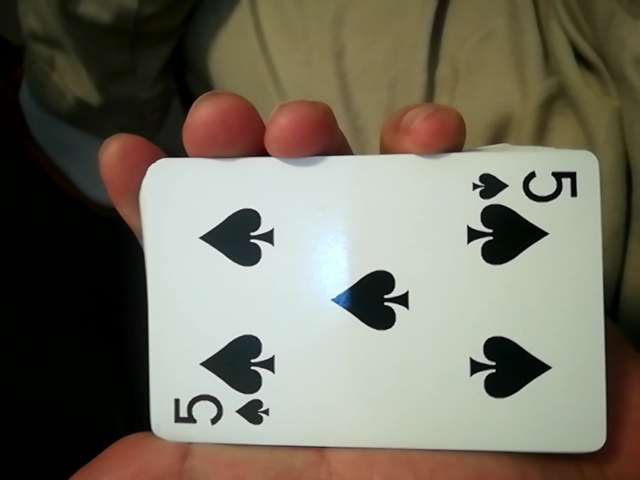ht 5: (119, 144, 594, 459)
